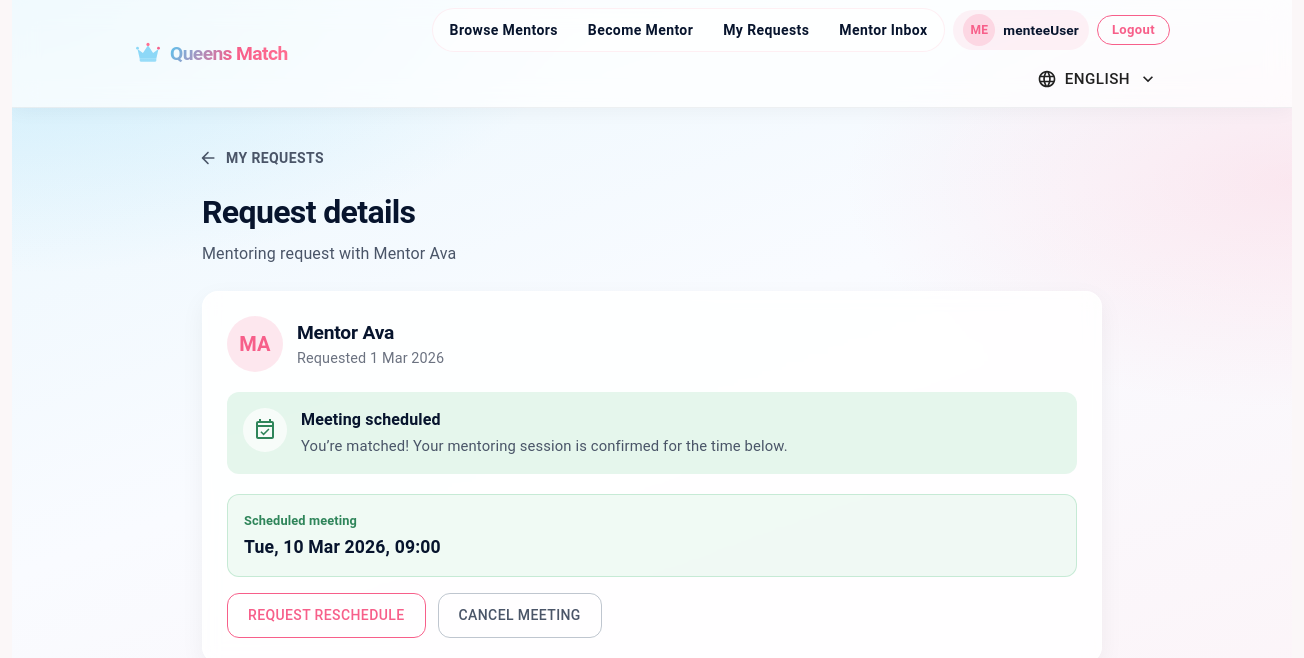
Scenario: RequestDetailsPage › reschedule is available when MATCHED and unused
Click the button "Request reschedule" at (326, 616), box [227,593,426,638]
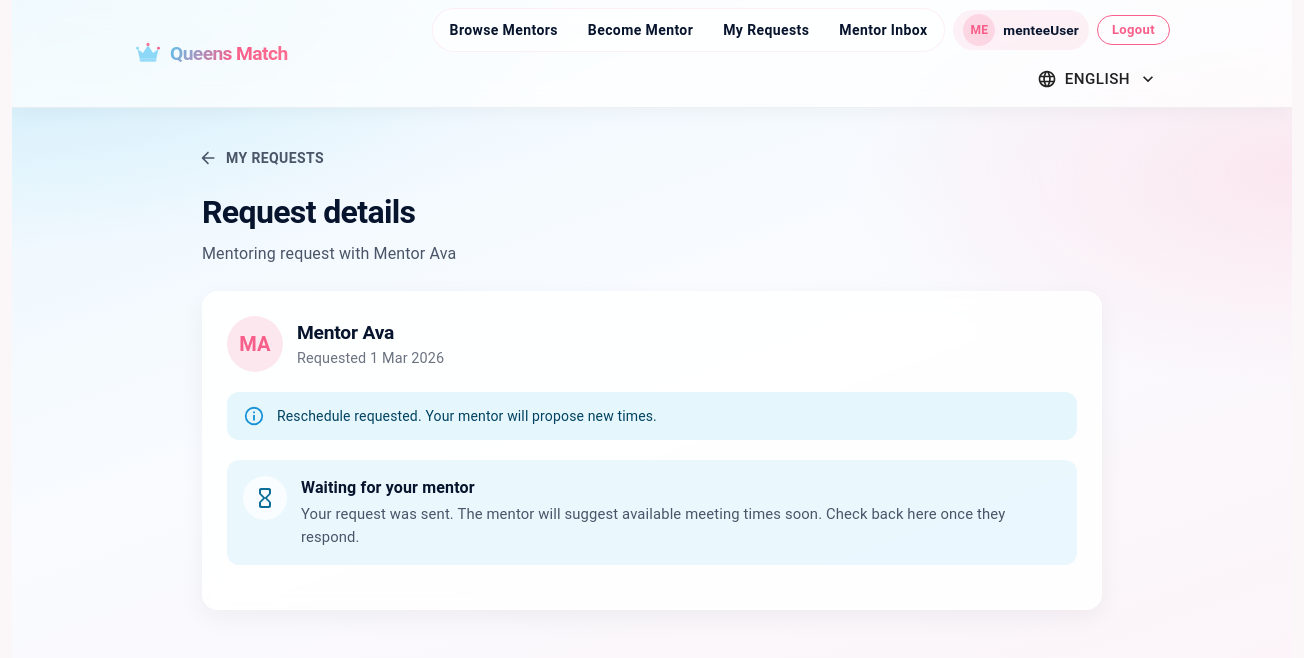
expect the text "Reschedule requested. Your mentor will propose new times." is shown: met, box [277,408,657,424]
